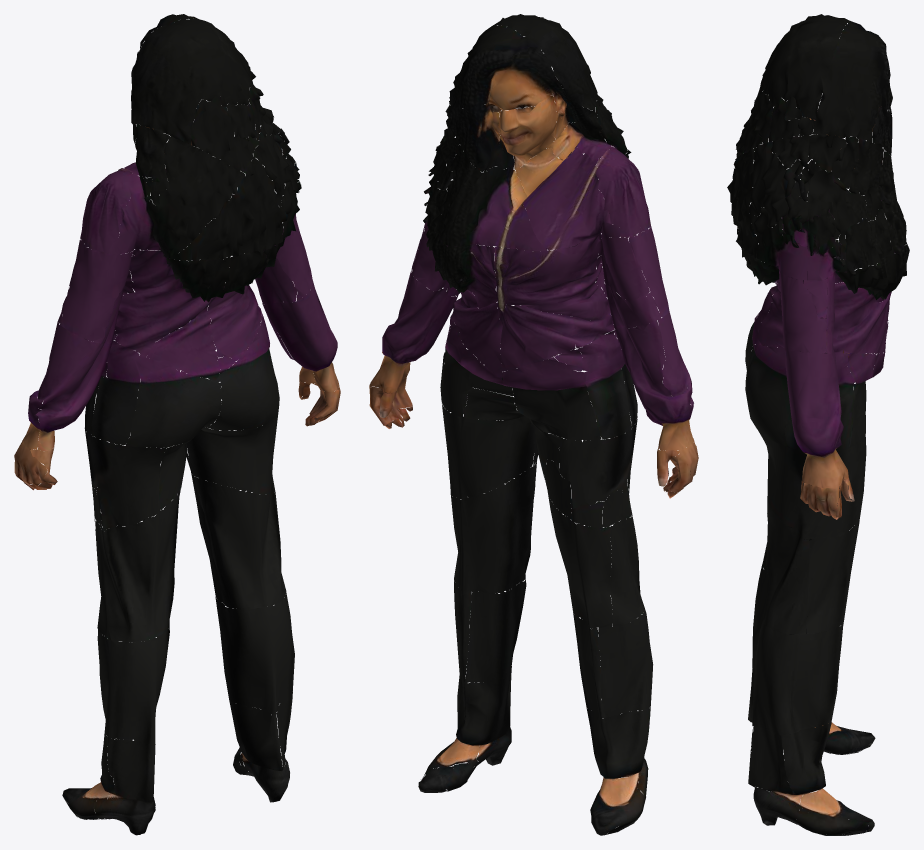
File: mahal.glb
3 renders of one model, left to right at view 1: azimuth 30°, elevation 25°; view 2: azimuth 150°, elevation 25°; view 3: azimuth 270°, elevation 25°, orthographic.
Parts seen in each view (by area): view 1: MAHAL; view 2: MAHAL; view 3: MAHAL.
Boxes of the visible parts, x1,y1,x2,y2 form: MAHAL: (14,14,340,835); MAHAL: (369,14,698,835); MAHAL: (727,14,909,835).
Size of the model in its own units: 0.719 by 1.66 by 0.3552.
Materials: 1 (1 with a texture image).
